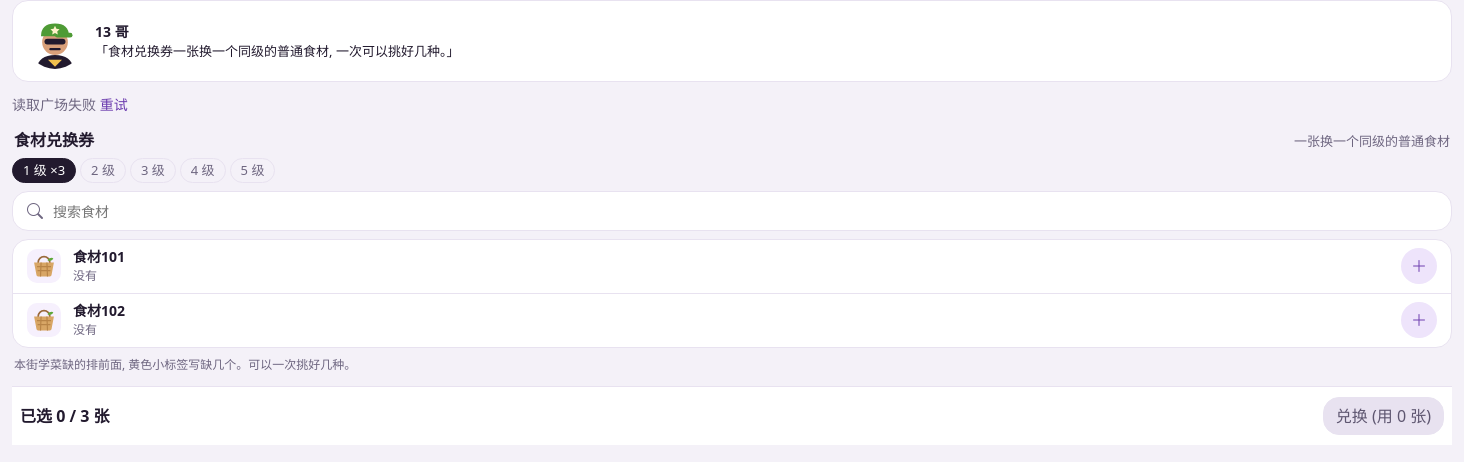
协会里的 NPC 页（问题记录 441、443） › 读广场数据失败：写读取失败、带重试
The width and height of the screenshot is (1464, 462).
Click the button with test id "npc-town-retry": (114, 104) [100,94,128,115]
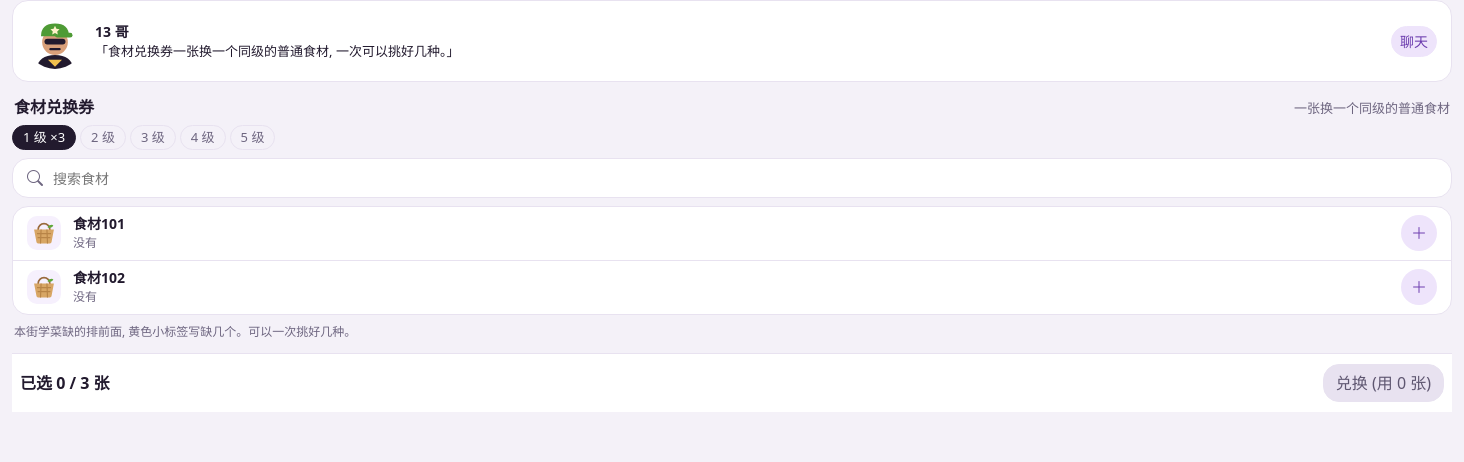
Now the button with test id "talk-bro13" is shown, box [1391,26,1437,56]
